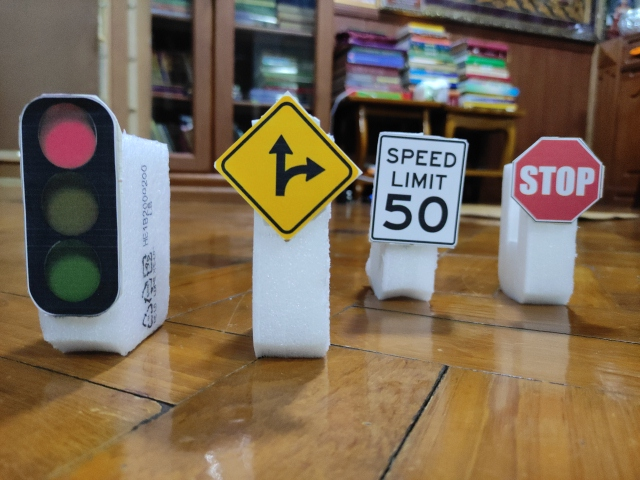Red Traffic Light: (20, 94, 121, 318)
Speed Limit 50: (370, 135, 468, 247)
Stop Sign: (511, 137, 604, 223)
Straight Or Right Sign: (217, 99, 357, 238)
